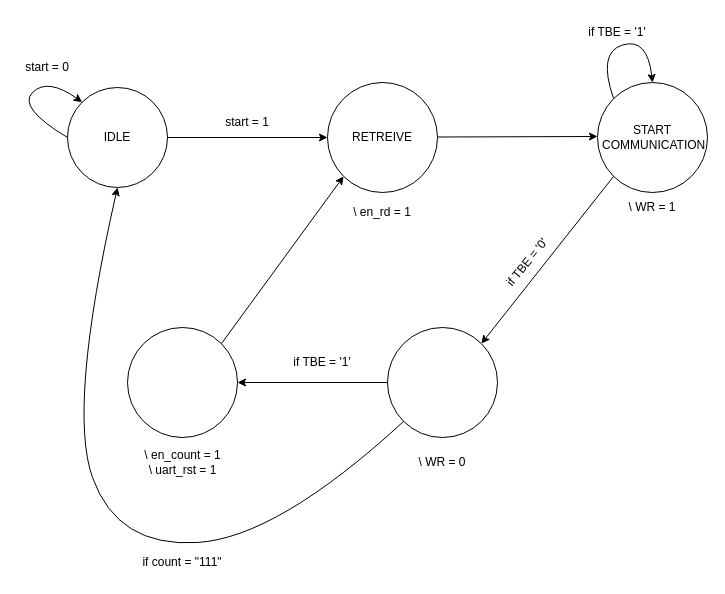
Image size: 725x594. Some labels were removed from this diagram. Here are the shapes that lost their labels. From the top down, the centre of each, then its label:
At (x=182, y=382): "INCR COUNTER".
At (x=442, y=382): "END COMMUNICATION".
